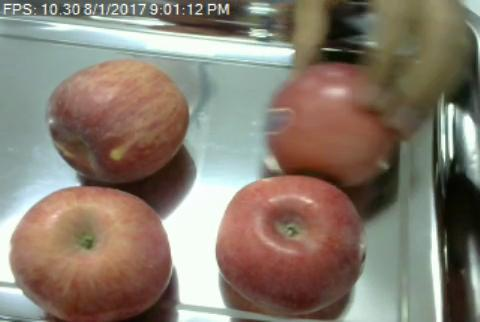apple: (9, 185, 172, 319), (215, 175, 369, 314), (45, 59, 189, 181), (271, 62, 393, 184)
